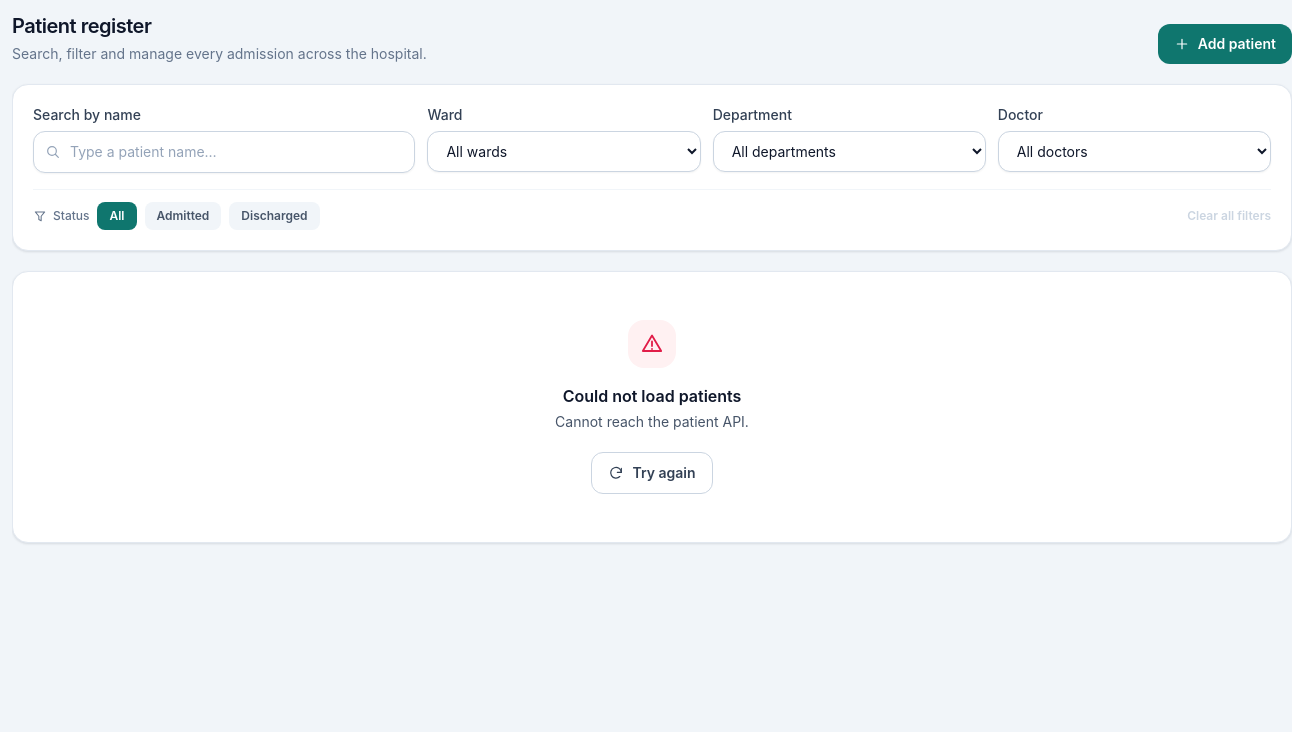
Test case: PatientsPage › shows an error state and retries the request
This screenshot has width=1292, height=732.
Check: the heading "Could not load patients" is shown, box [563, 384, 741, 408]
Check: the text "Cannot reach the patient API." is shown, box [555, 412, 749, 432]
Click the button "Try again".
click(652, 473)  # box [592, 452, 713, 494]
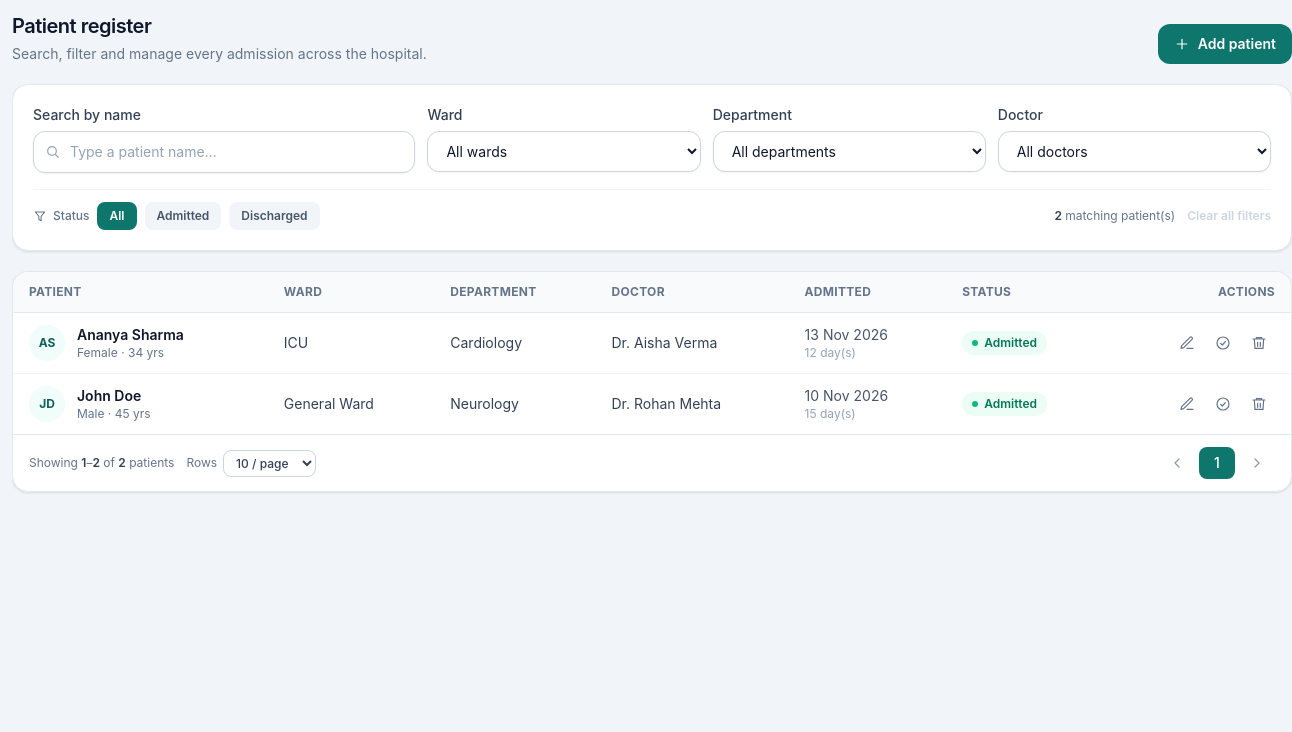
Check: the text "Ananya Sharma" is shown, box [77, 325, 184, 345]
